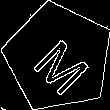M_NE: (24, 23, 93, 92)
